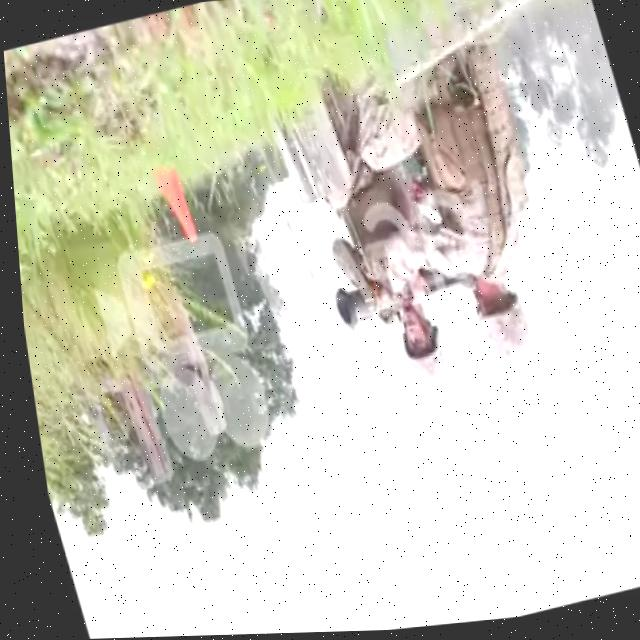rocket: (323, 266, 442, 334)
